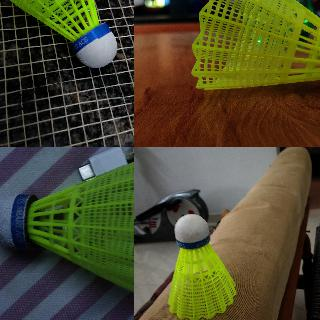shuttlecock: (0, 156, 133, 301), (190, 0, 319, 96), (0, 0, 117, 68), (167, 213, 236, 319)
